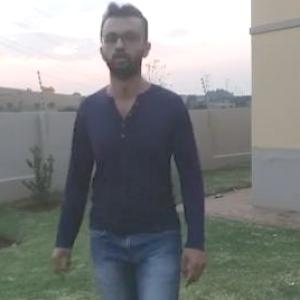follow: (57, 9, 198, 299)
